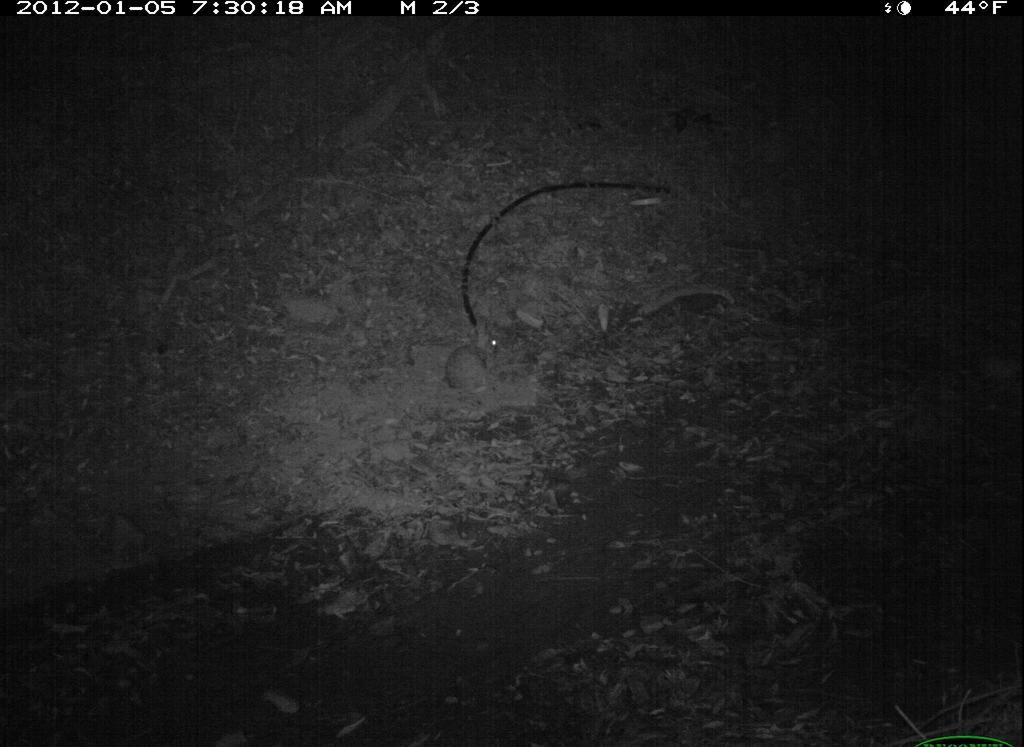rabbit: (437, 314, 521, 417)
